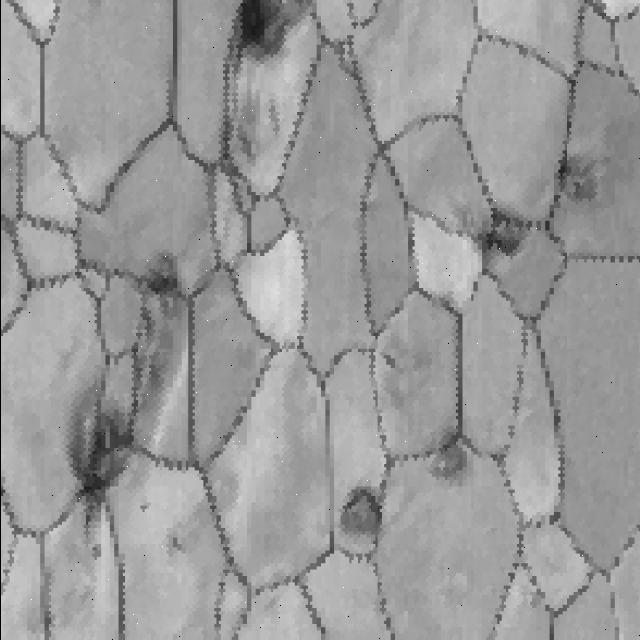good_void: (64, 382, 133, 536), (228, 76, 285, 171), (134, 308, 172, 436), (233, 1, 300, 58), (552, 145, 607, 209), (482, 219, 532, 268), (376, 339, 414, 402), (341, 481, 385, 533), (436, 453, 467, 490), (146, 272, 177, 300), (133, 491, 156, 524), (166, 522, 187, 556), (89, 537, 102, 563)
